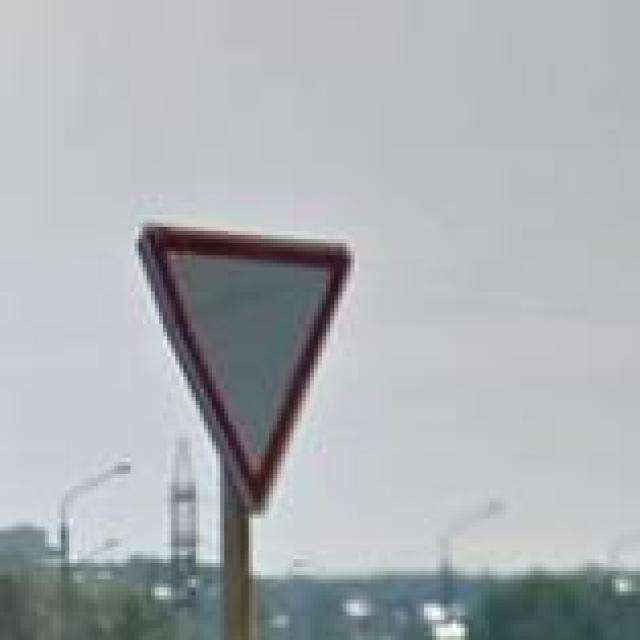traffic_sign: (138, 223, 346, 514)
